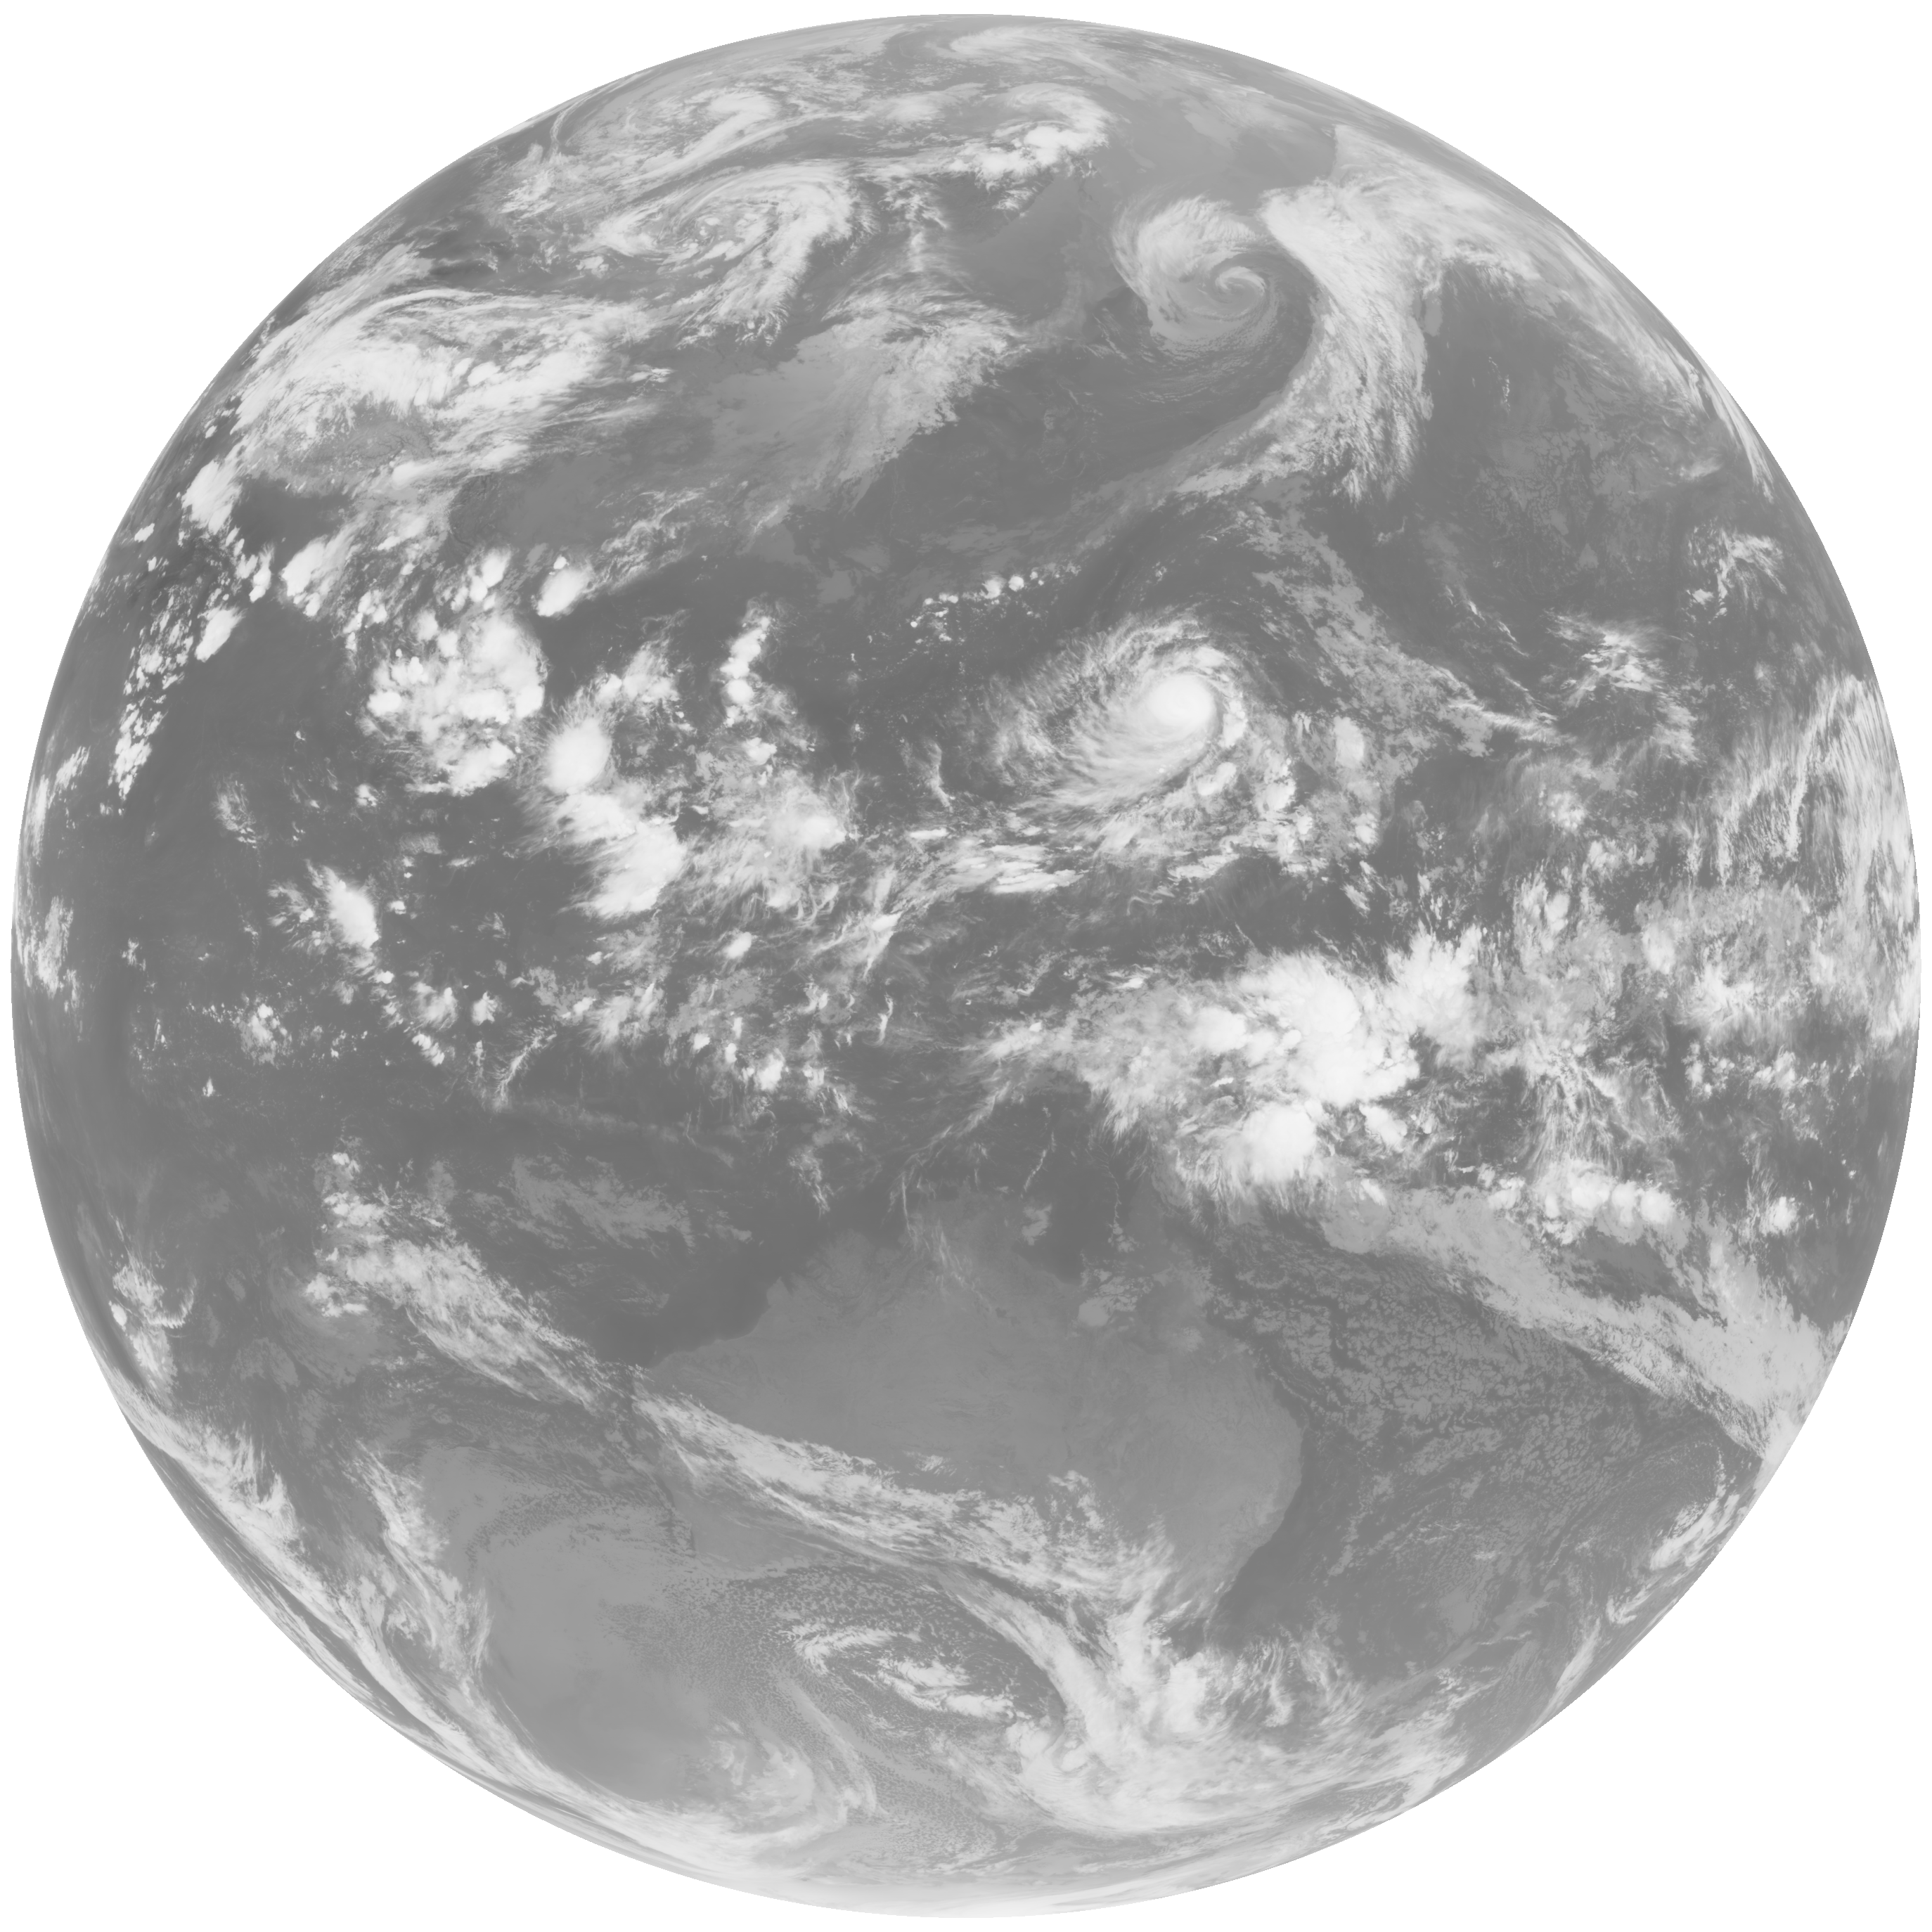typhoon: (893, 577, 1382, 890)
